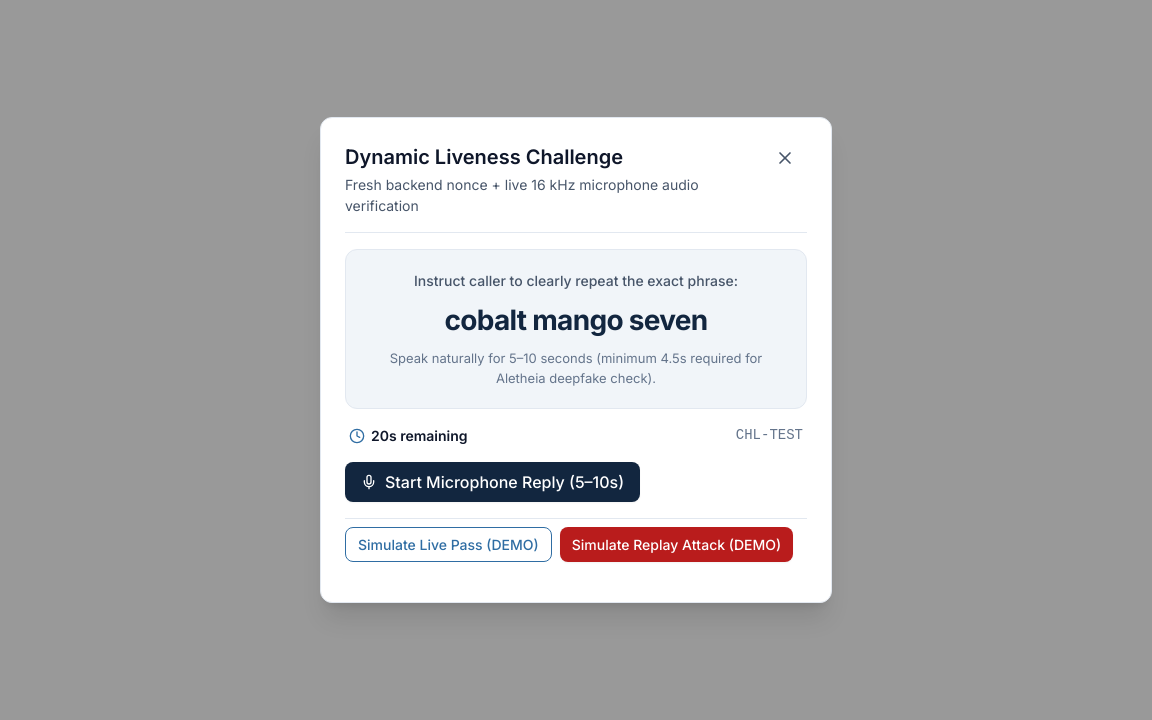
Test case: Eidos LIVE Reliability, Reasons, Liveness & Operator Timeout › separates Challenge Technical Error (Retryable - No END_CALL) from Challenge Failed (END_CALL Override)
Click the button "Simulate Live Pass (DEMO)".
click(448, 544)  # box x1=345 y1=527 x2=552 y2=562
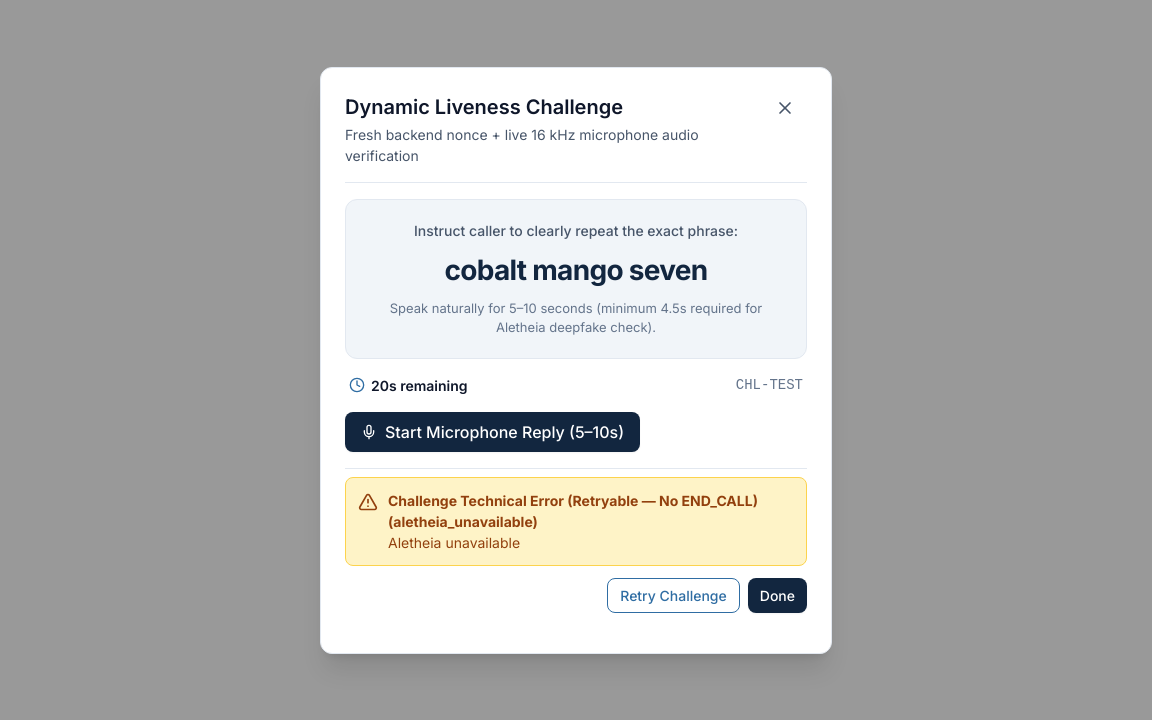
Result: the text "Challenge Technical Error (Retryable — No END_CALL)" is shown at x1=388 y1=492 x2=758 y2=508
Result: the button "Retry Challenge" is shown
Click the button "Retry Challenge".
click(674, 595)  # box x1=607 y1=578 x2=740 y2=612
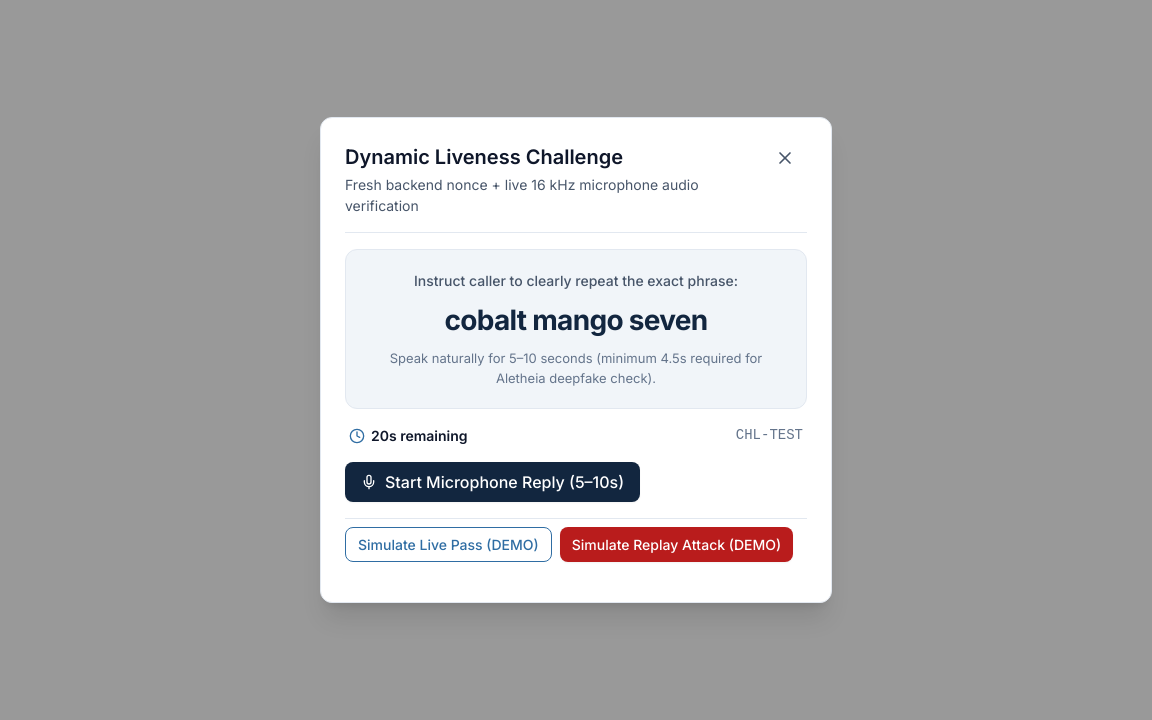
Click the button "Simulate Replay Attack (DEMO)".
click(676, 544)  # box x1=560 y1=527 x2=793 y2=562
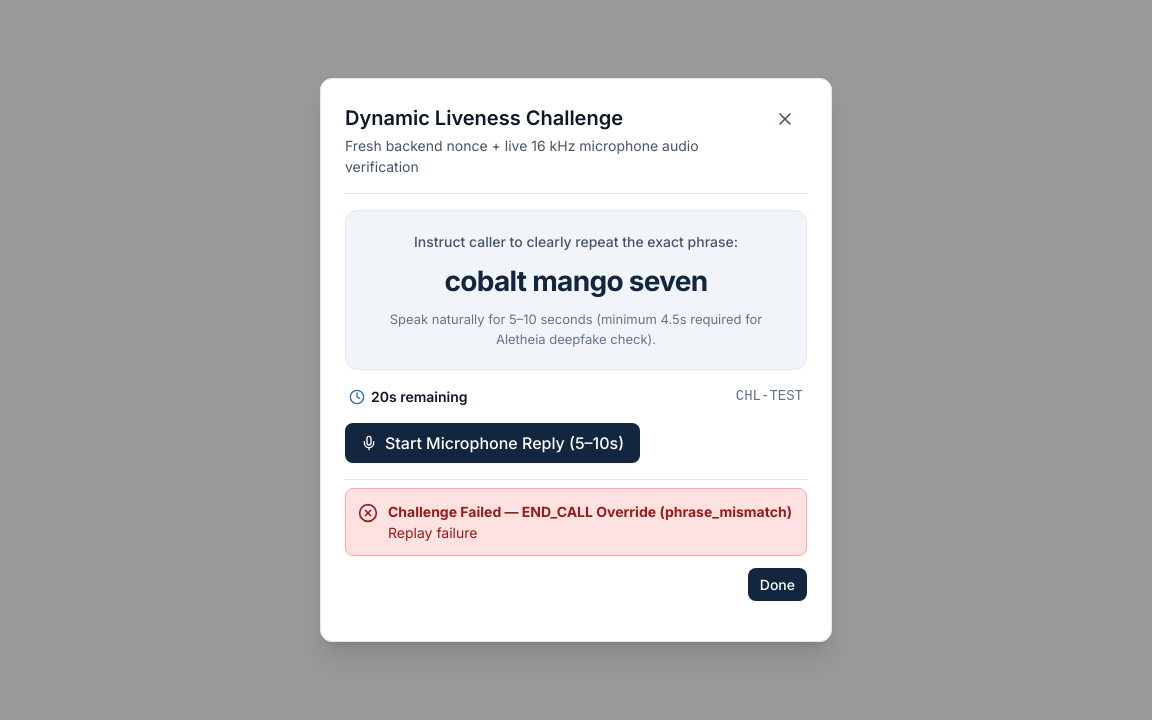
Result: the text "Challenge Failed — END_CALL Override (phrase_mismatch)" is shown at x1=388 y1=501 x2=792 y2=522
